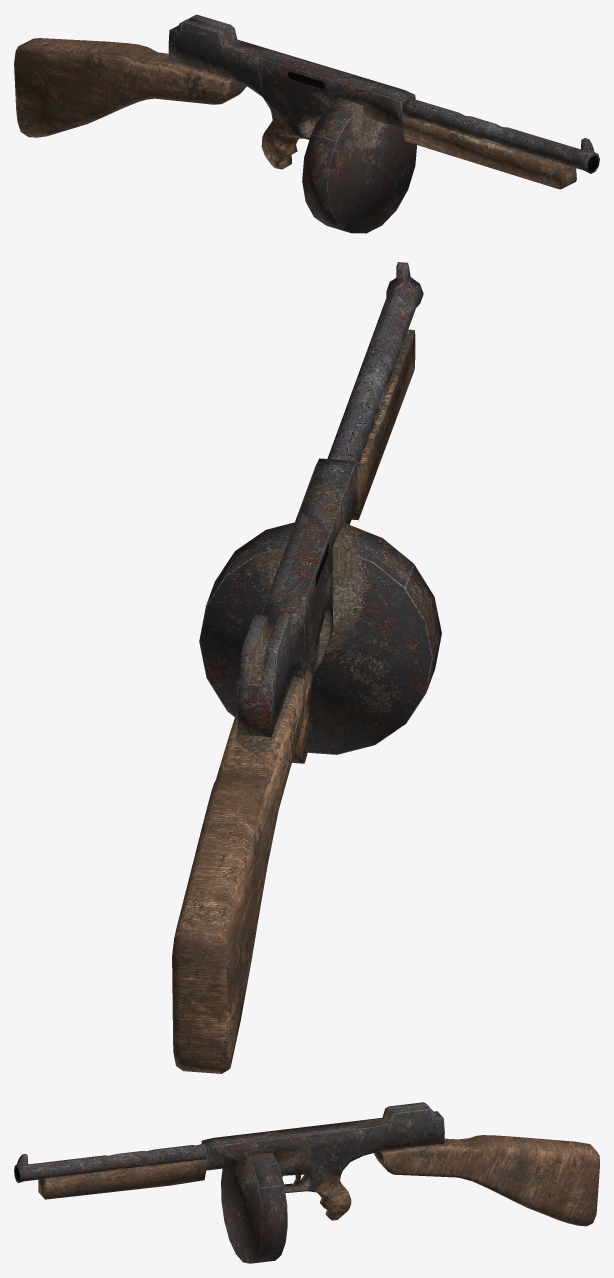
File: Anim_disparar_ametralladora_objetos.0025.obj
The picture shows the model from 3 angles, top to bottom: view 1: azimuth 30°, elevation 25°; view 2: azimuth 150°, elevation 25°; view 3: azimuth 270°, elevation 25°; orthographic projection. The views are drawn at different scales.
Parts seen in each view (by area): view 1: Ametralladora1; view 2: Ametralladora1; view 3: Ametralladora1.
Boxes of the visible parts, x1,y1,x2,y2 form: Ametralladora1: (14,14,599,233); Ametralladora1: (172,262,441,1073); Ametralladora1: (14,1102,599,1263).
Bounding box in the file's own units: 2.29 × 1.66 × 5.67.
